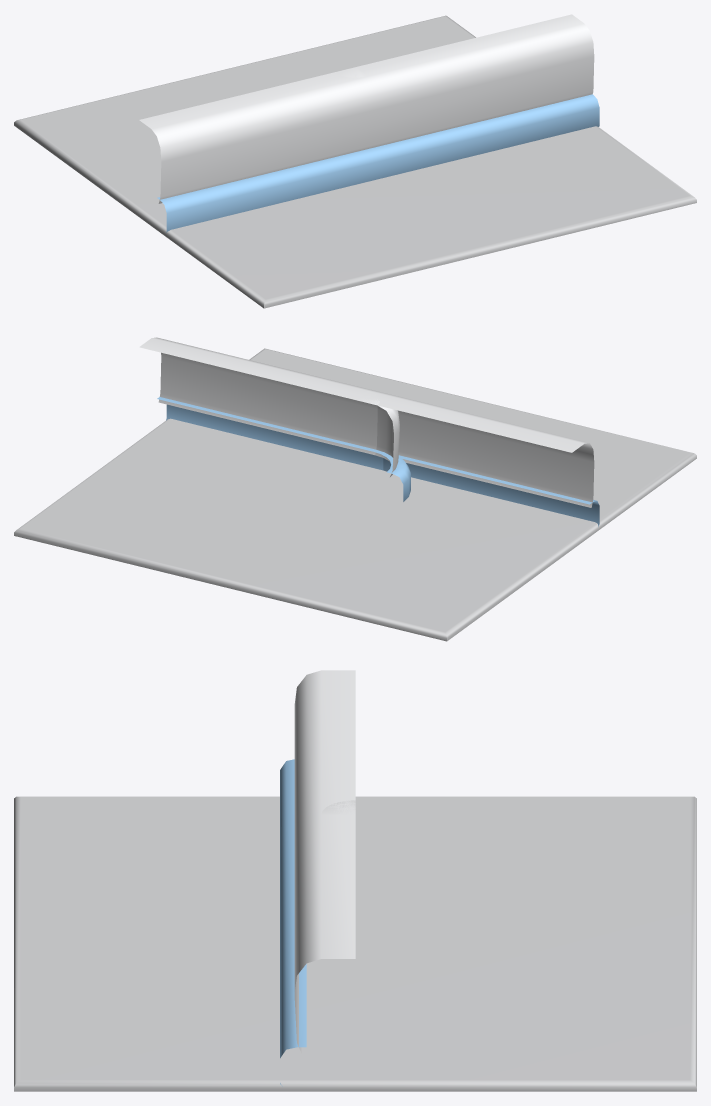
The model's file is Hub_CleanGround.fbx.
3 renders of one model, top to bottom at view 1: azimuth 30°, elevation 25°; view 2: azimuth 150°, elevation 25°; view 3: azimuth 270°, elevation 25°, orthographic. The views are drawn at different scales.
Parts seen in each view (by area): view 1: CleanGround_Tile, CleanGround_Kerb, CleanGround_KerbBand; view 2: CleanGround_Tile, CleanGround_Kerb, CleanGround_KerbBand, CleanGround_KerbCorner, CleanGround_KerbCornerBand; view 3: CleanGround_Tile, CleanGround_Kerb, CleanGround_KerbBand.
Part boxes in pixels (bbox=[...]): CleanGround_Tile: bbox=[14, 15, 696, 308]; CleanGround_Kerb: bbox=[139, 14, 594, 203]; CleanGround_KerbBand: bbox=[157, 94, 599, 232]; CleanGround_Tile: bbox=[14, 348, 696, 641]; CleanGround_Kerb: bbox=[139, 337, 594, 507]; CleanGround_KerbBand: bbox=[157, 397, 599, 526]; CleanGround_KerbCorner: bbox=[356, 391, 399, 476]; CleanGround_KerbCornerBand: bbox=[374, 450, 410, 501]; CleanGround_Tile: bbox=[14, 796, 696, 1091]; CleanGround_Kerb: bbox=[294, 670, 355, 1053]; CleanGround_KerbBand: bbox=[280, 759, 306, 1086].
Bounding box in the file's own units: 14 × 3 × 14.
